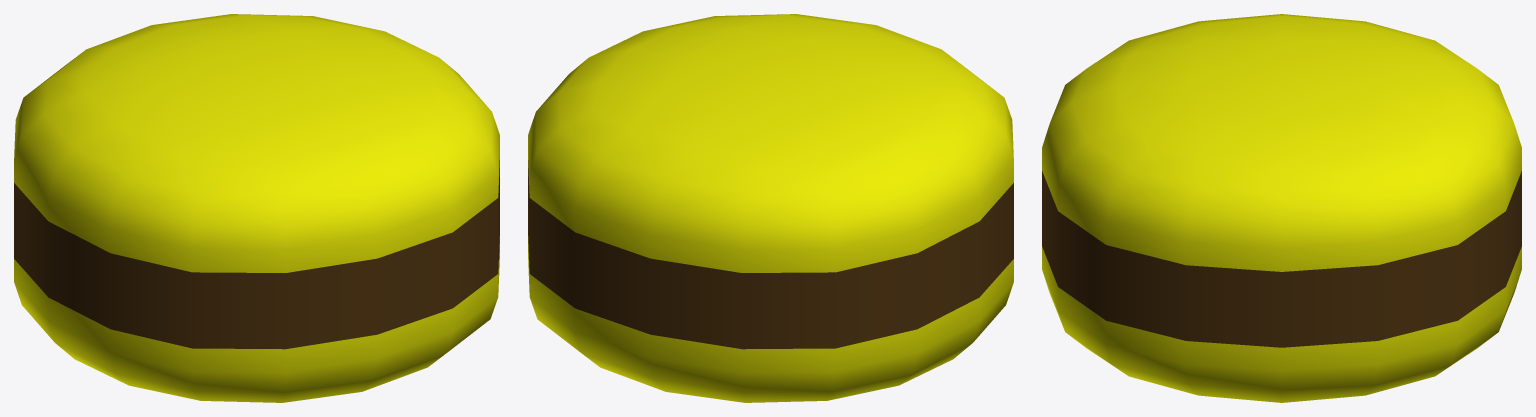
The model's file is roundsugar.fbx.
3 renders of one model, left to right at view 1: azimuth 30°, elevation 25°; view 2: azimuth 150°, elevation 25°; view 3: azimuth 270°, elevation 25°, orthographic.
Parts seen in each view (by area): view 1: pCube1; view 2: pCube1; view 3: pCube1.
Part boxes in pixels (x1,y1,x2,y2): pCube1: (14,14,499,402); pCube1: (528,14,1013,402); pCube1: (1042,14,1521,402).
Bounding box in the file's own units: 93.75 × 58.55 × 93.75.
